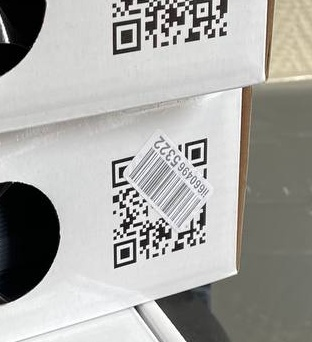2d: (111, 137, 208, 271)
